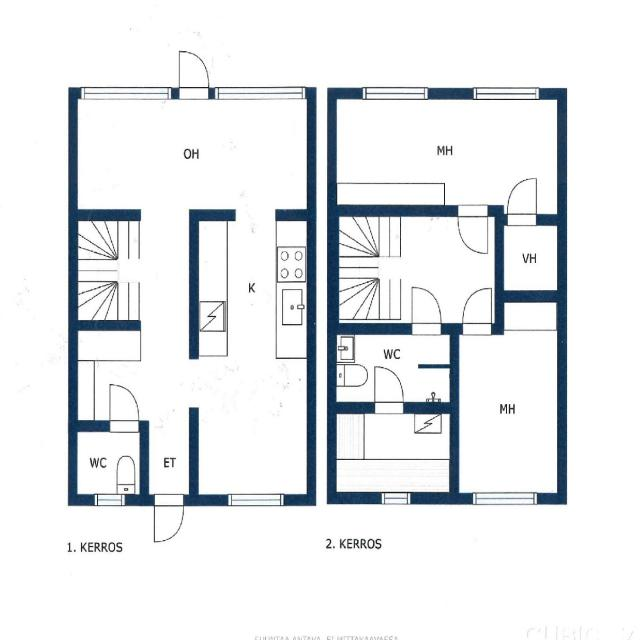door: (154, 494, 184, 542), (412, 284, 442, 332), (462, 284, 492, 332), (458, 210, 488, 258), (179, 52, 209, 99), (110, 384, 140, 431), (508, 196, 537, 244), (374, 366, 404, 412)
